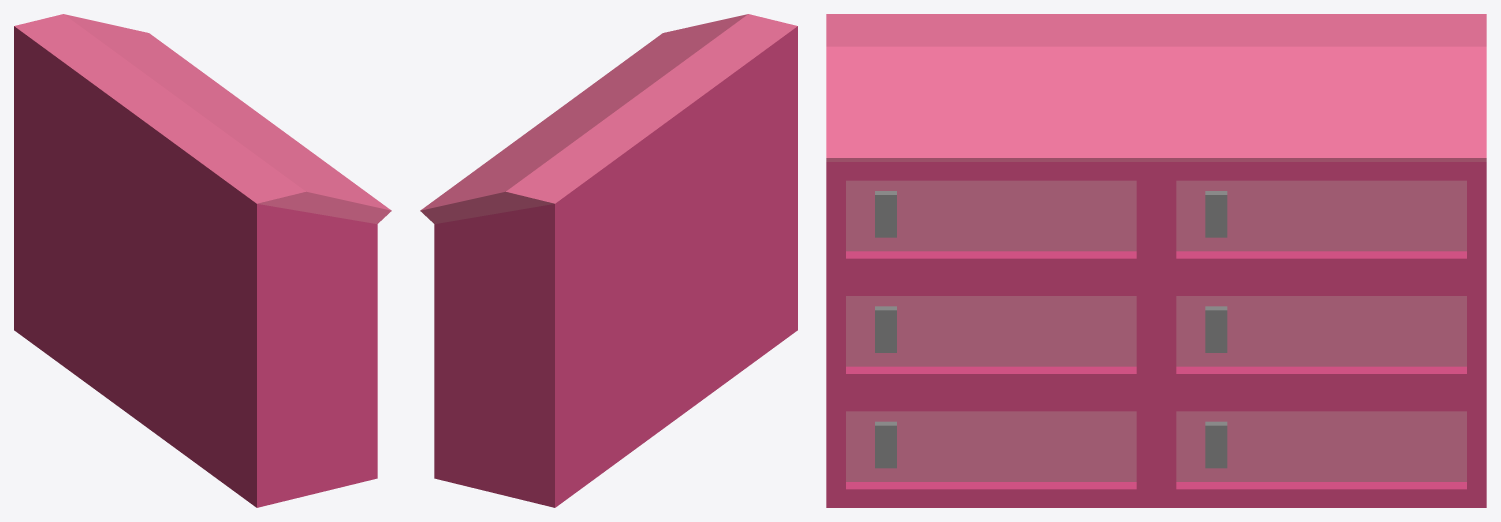
Rendered from PostBox_2_D.fbx.
The picture shows the model from 3 angles, left to right: view 1: azimuth 30°, elevation 25°; view 2: azimuth 150°, elevation 25°; view 3: azimuth 270°, elevation 25°; orthographic projection. The views are drawn at different scales.
Visible parts, largest first — view 1: PostBox_2_D; view 2: PostBox_2_D; view 3: PostBox_2_D.
Boxes of the visible parts, <box> form: PostBox_2_D: <box>14,14,391,507</box>; PostBox_2_D: <box>420,14,797,507</box>; PostBox_2_D: <box>826,14,1486,507</box>.
Bounding box in the file's own units: 19.48 × 41.93 × 60.65.
